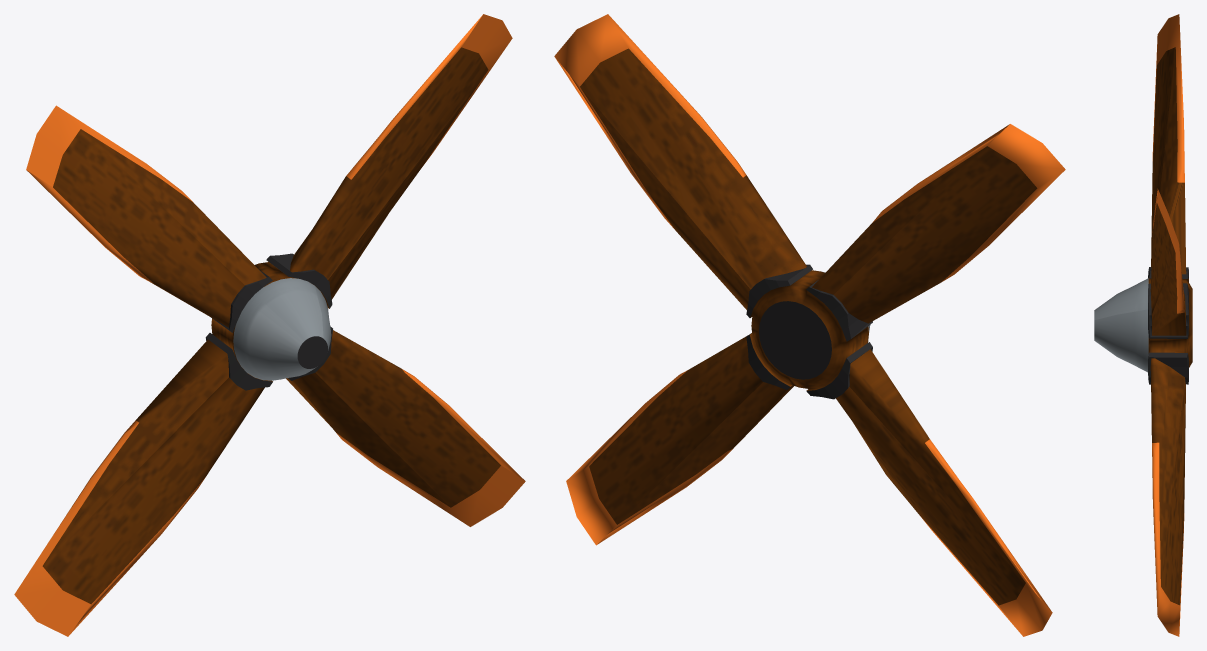
Rendered from Radial_Engine_Propeller.obj.
3 renders of one model, left to right at view 1: azimuth 30°, elevation 25°; view 2: azimuth 150°, elevation 25°; view 3: azimuth 270°, elevation 25°, orthographic. The views are drawn at different scales.
Visible parts, largest first — view 1: Cylinder_Cylinder.001; view 2: Cylinder_Cylinder.001; view 3: Cylinder_Cylinder.001.
Part boxes in pixels (left/top/right/bottom): Cylinder_Cylinder.001: left=14, top=14, right=525, bottom=636; Cylinder_Cylinder.001: left=554, top=14, right=1065, bottom=636; Cylinder_Cylinder.001: left=1094, top=14, right=1192, bottom=636.
Size of the model in its own units: 5.22 by 5.22 by 1.04.
